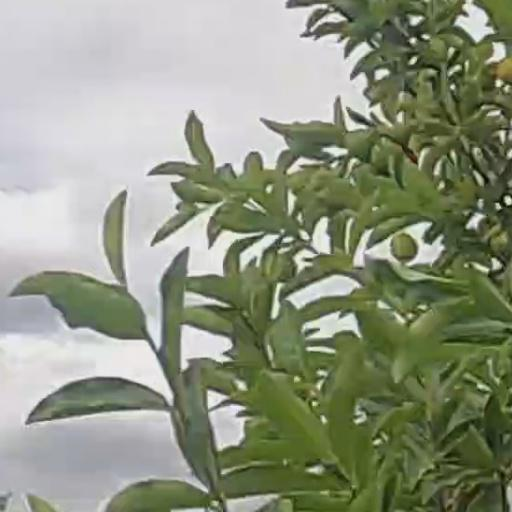acerola_verde: (263, 255, 297, 281), (392, 234, 415, 261)
